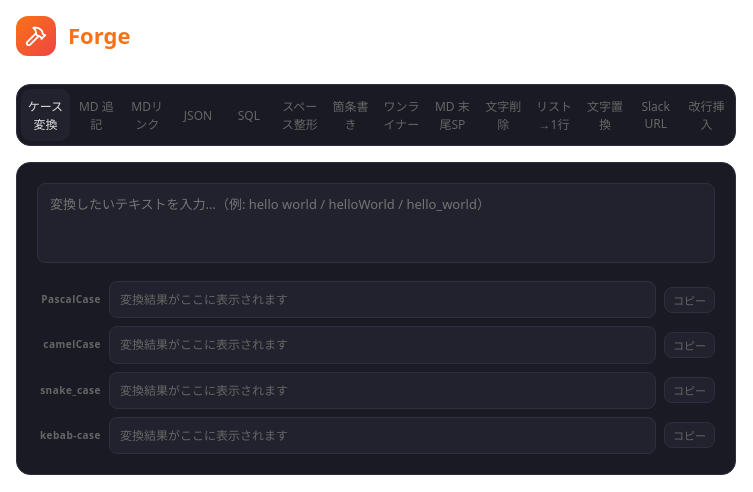
Test: JSON 整形 › 不正な JSON を入力するとエラーが表示される
Click the tab "JSON" at [198, 115], box [174, 89, 222, 141]
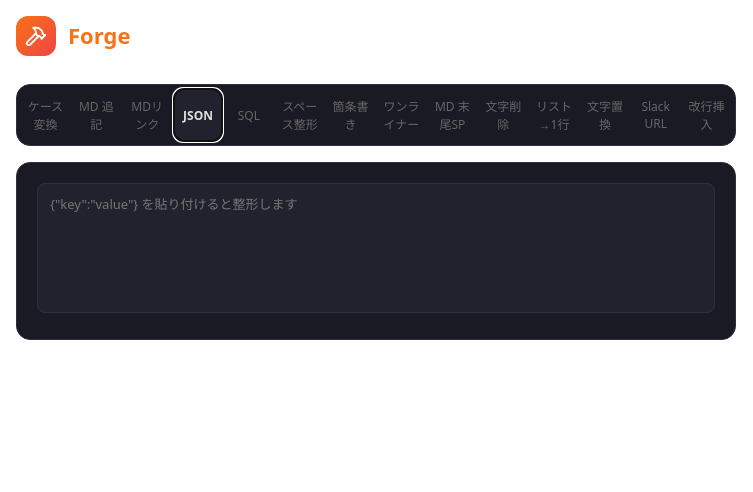
Type "not json" into the text box named "JSON入力" at [376, 248], box [37, 183, 715, 313]
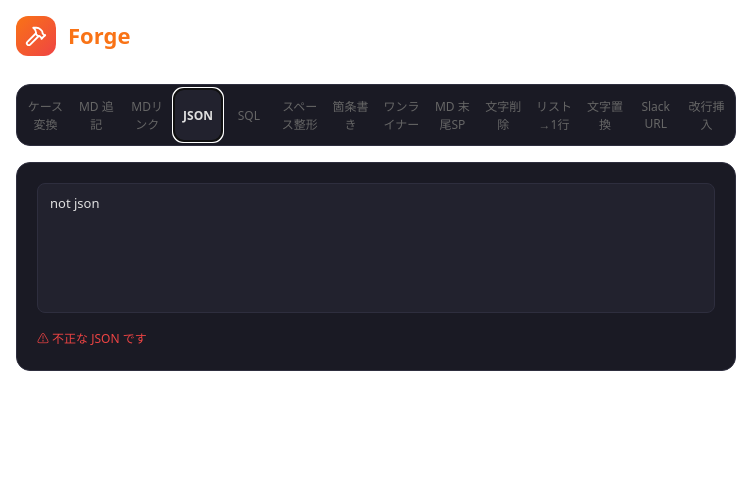
Check: the text "⚠ 不正な JSON です" is shown, box [37, 330, 147, 347]
